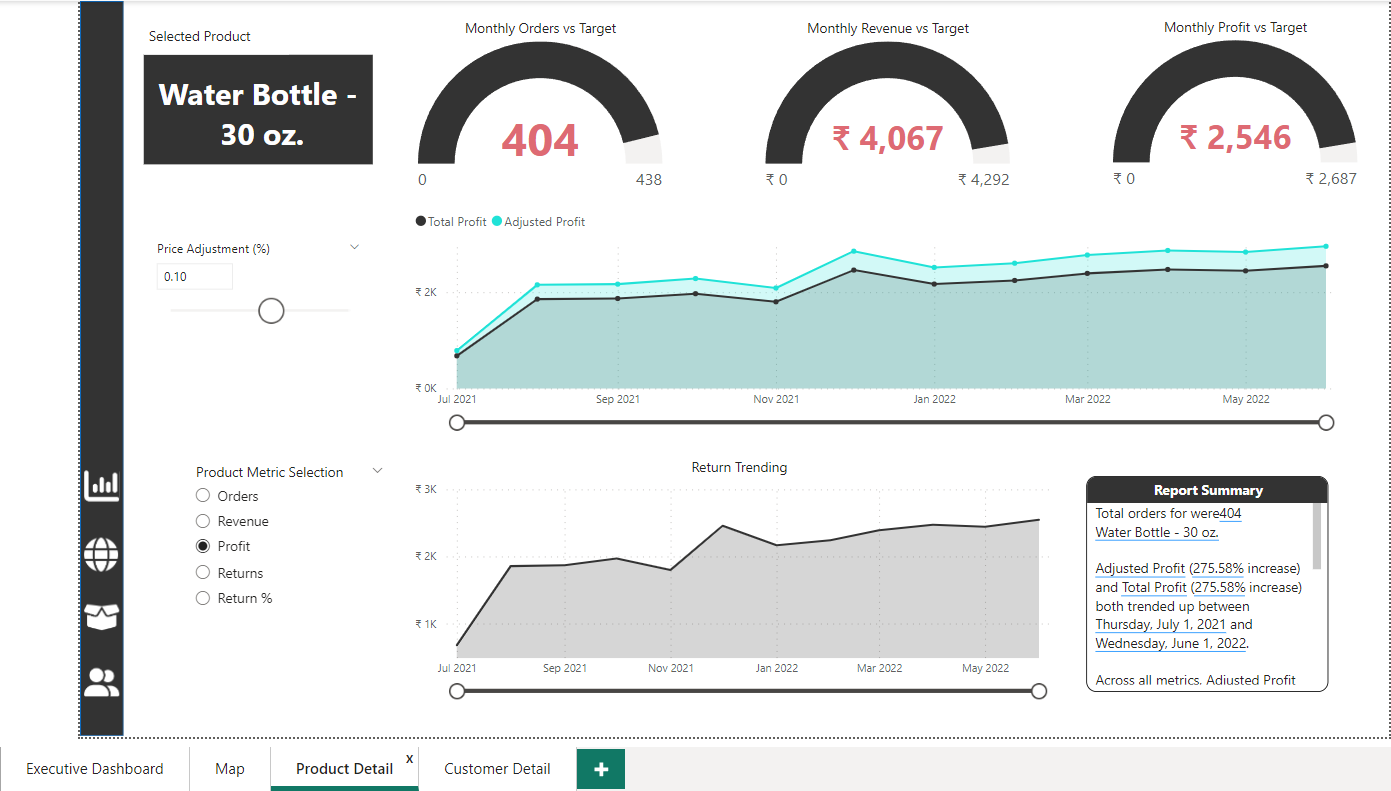

What the dashboard file says about the page in this screenshot:
{"tool":"powerbi","page":{"name":"Product Detail","canvas":[1280,720],"ordinal":2},"visuals":[{"type":"shape","box":[0,0,42.8,718.8],"z":0},{"type":"actionButton","box":[0,450,42.5,48.8],"z":1000,"group":"g1"},{"type":"gauge","title":"Monthly Orders vs Target","fields":{"Y":["Measure Table.Total Orders"],"MaxValue":["Measure Table.Order Target"]},"box":[322,17.2,257.5,178.8],"z":1000},{"type":"gauge","title":"Monthly Profit vs Target","fields":{"Y":["Measure Table.Total Profit"],"MaxValue":["Measure Table.Profit Target"]},"box":[1001.2,16.2,257.5,178.8],"z":2000},{"type":"actionButton","box":[0,521.2,42.5,41.2],"z":2000,"group":"g1"},{"type":"gauge","title":"Monthly Revenue vs Target","fields":{"Y":["Measure Table.Total Revenue"],"MaxValue":["Measure Table.Revenue Target"]},"box":[661.6,17.2,257.5,178.8],"z":3000},{"type":"actionButton","box":[0,578.3,42.5,48.8],"z":3000,"group":"g1"},{"type":"actionButton","box":[0,642.5,42.5,48.8],"z":4000,"group":"g1"},{"type":"areaChart","title":" Profit Trending","fields":{"Y":["Measure Table.Total Profit","Measure Table.Adjusted Profit"],"Category":["Calendar Lookup.Date Hierarchy.Start of Year","Calendar Lookup.Date Hierarchy.Start of Month","Calendar Lookup.Date Hierarchy.Start of Week","Calendar Lookup.Date Hierarchy.Date"]},"box":[322.5,195,925,227.5],"z":4000},{"type":"areaChart","title":"Return Trending","fields":{"Y":["Measure Table.Total Profit"],"Category":["Calendar Lookup.Date Hierarchy.Start of Year","Calendar Lookup.Date Hierarchy.Start of Month","Calendar Lookup.Date Hierarchy.Start of Week","Calendar Lookup.Date Hierarchy.Date"]},"box":[322.7,446.2,644.2,239.6],"z":5000},{"type":"card","fields":{"Values":["Min(Product Lookup.ProductName)"]},"box":[62.5,52.5,223.8,107.5],"z":6000},{"type":"textbox","box":[62.5,20,141.2,32.5],"z":7000},{"type":"group","id":"g1","title":"Navigations Buttons","box":[0,450,42.5,241.2],"z":8000},{"type":"slicer","fields":{"Values":["Price Adjustment (%).Price Adjustment (%)"]},"box":[62.5,228.8,223.8,113.8],"z":9000},{"type":"slicer","fields":{"Values":["Product Metric Selection.Product Metric Selection"]},"box":[100,446.2,208.8,177.5],"z":10000},{"type":"textbox","title":"Report Summary","box":[984,464.5,237.1,211.5],"z":11000}]}

Visuals, with their boxes on the page's 1280x720 design canvas (x1, y1, x2, y2). These are canvas units, not pixel positions in the 1391x791 screenshot, which may show the page scaled, cropped or inside an application window:
shape: detection(0, 0, 43, 719)
actionButton: detection(0, 450, 42, 499)
"Monthly Orders vs Target" gauge: detection(322, 17, 580, 196)
"Monthly Profit vs Target" gauge: detection(1001, 16, 1259, 195)
actionButton: detection(0, 521, 42, 562)
"Monthly Revenue vs Target" gauge: detection(662, 17, 919, 196)
actionButton: detection(0, 578, 42, 627)
actionButton: detection(0, 642, 42, 691)
" Profit Trending" areaChart: detection(322, 195, 1248, 422)
"Return Trending" areaChart: detection(323, 446, 967, 686)
card - Min(Product Lookup.ProductName): detection(62, 52, 286, 160)
textbox: detection(62, 20, 204, 52)
"Navigations Buttons" group: detection(0, 450, 42, 691)
slicer - Price Adjustment (%).Price Adjustment (%): detection(62, 229, 286, 343)
slicer - Product Metric Selection.Product Metric Selection: detection(100, 446, 309, 624)
"Report Summary" textbox: detection(984, 464, 1221, 676)
